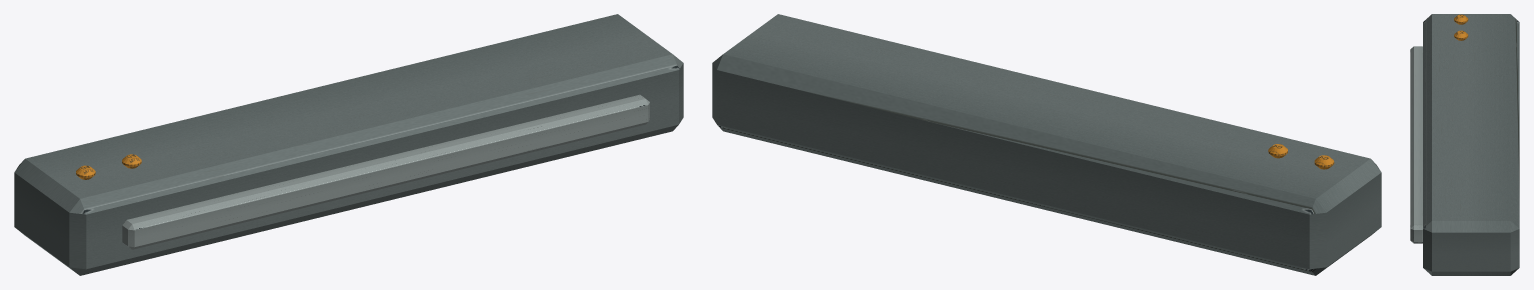
File: beam_2m_LOD0.obj
The picture shows the model from 3 angles, left to right: view 1: azimuth 30°, elevation 25°; view 2: azimuth 150°, elevation 25°; view 3: azimuth 270°, elevation 25°; orthographic projection. The views are drawn at different scales.
Parts seen in each view (by area): view 1: L02_beam_2m_LOD0; view 2: L02_beam_2m_LOD0; view 3: L02_beam_2m_LOD0.
Part boxes in pixels (left/top/right/bottom): L02_beam_2m_LOD0: left=14, top=14, right=683, bottom=275; L02_beam_2m_LOD0: left=712, top=14, right=1381, bottom=275; L02_beam_2m_LOD0: left=1410, top=14, right=1519, bottom=275.
Size of the model in its own units: 2 by 0.27 by 0.43.
1 material, 1 textured.
